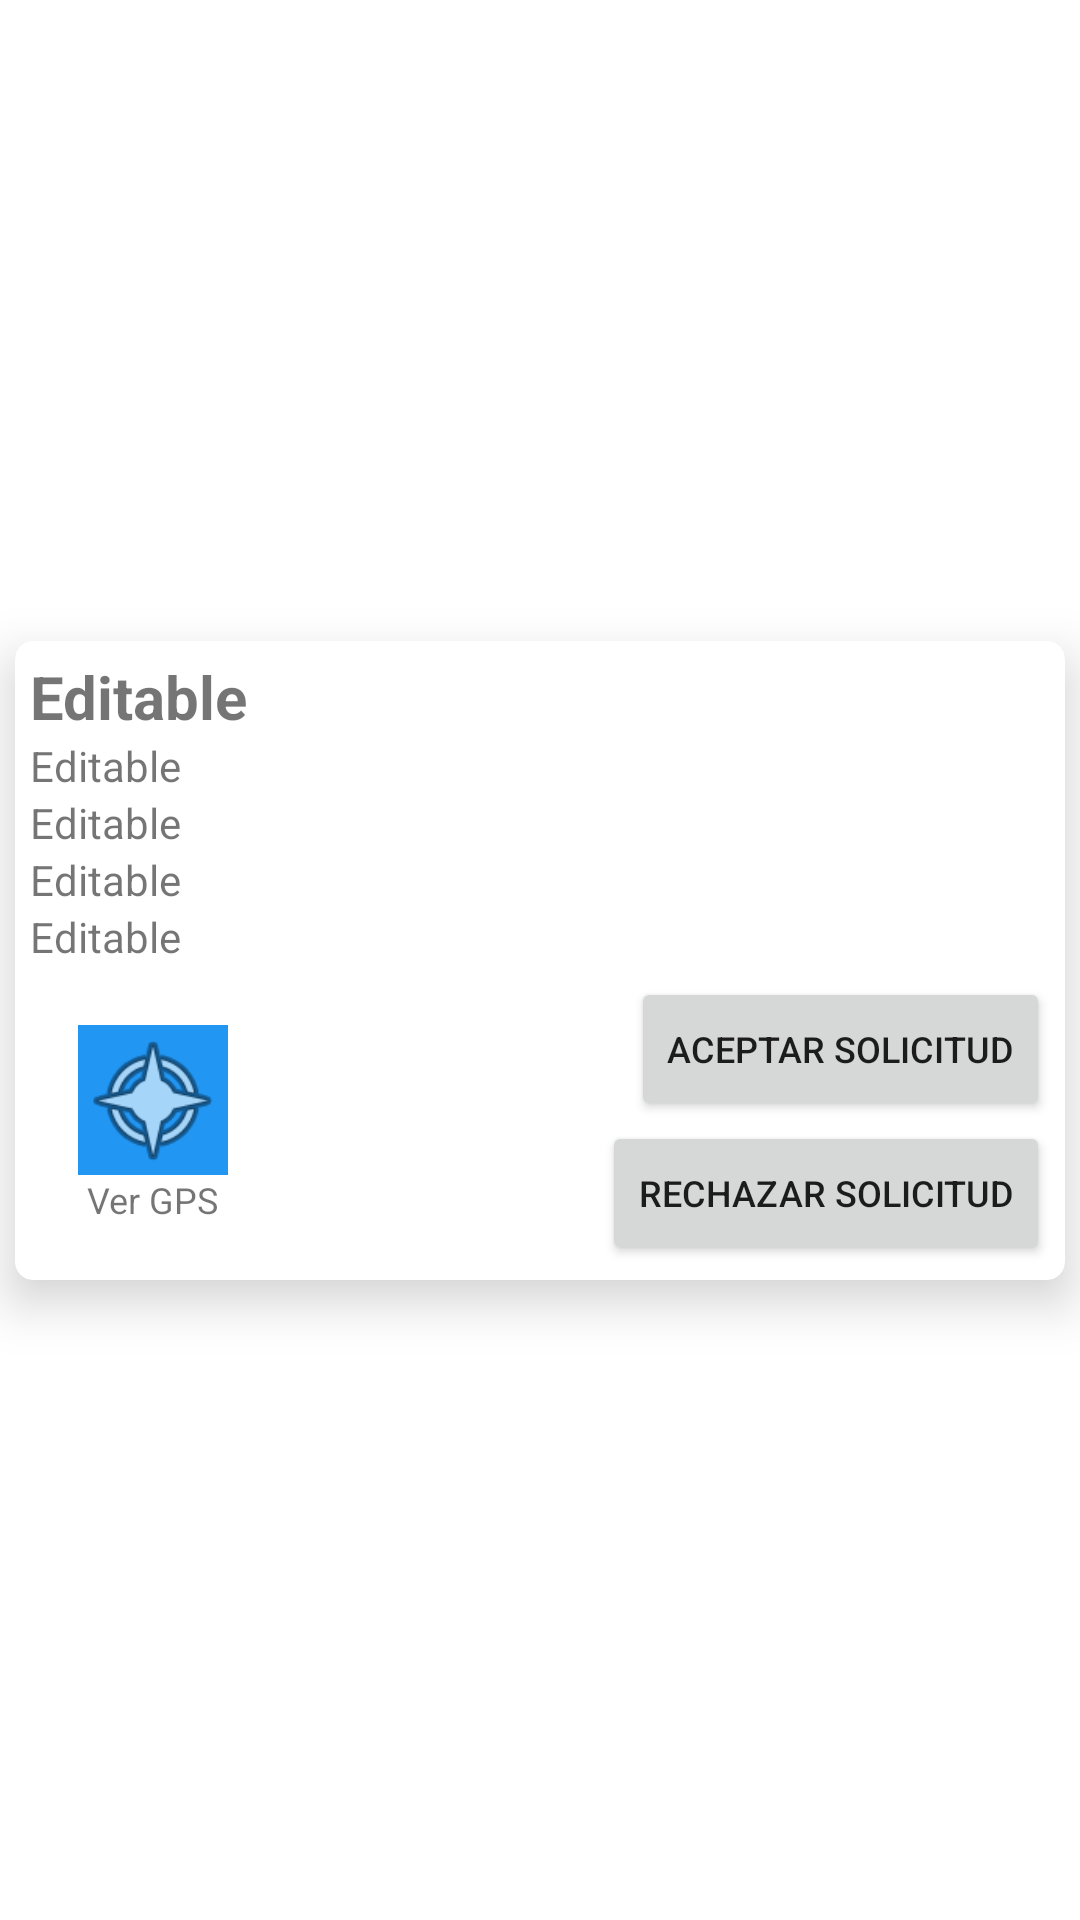

Icon bounding boxes for this 1080×1920 phone screenshot, format region(x1, y1, x2, y2):
compass: region(78, 1025, 228, 1175)
